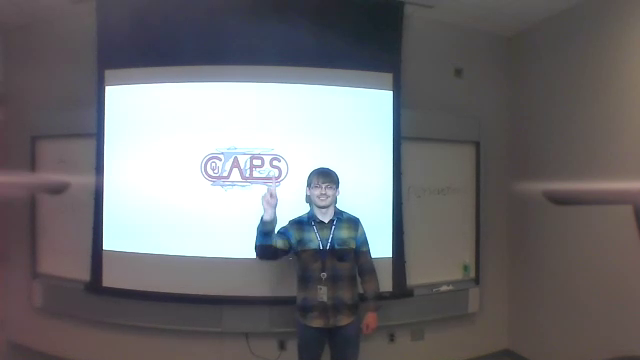up: (254, 175, 283, 211)
